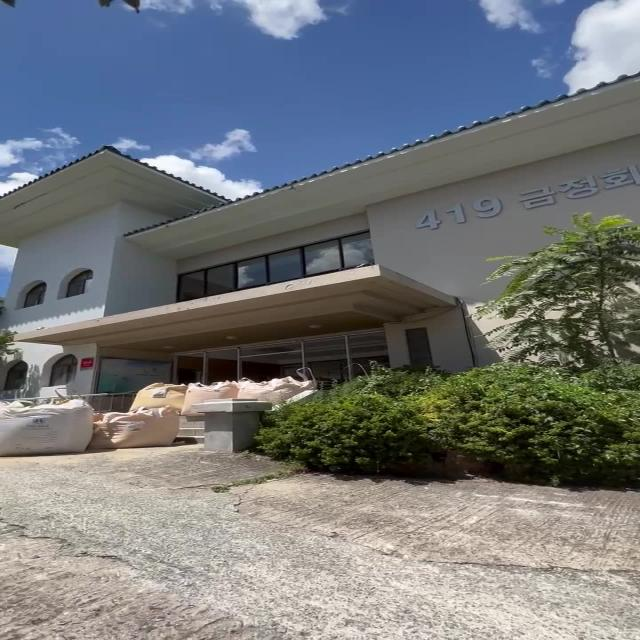building: (19, 73, 640, 378)
